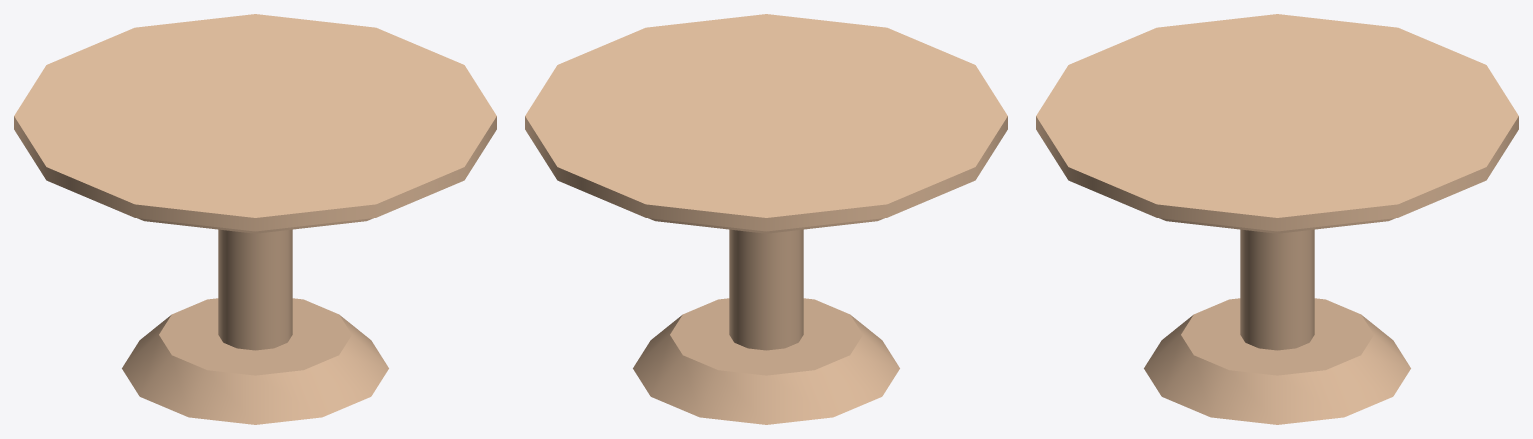
The model's file is diningRoundPedestal.glb.
The picture shows the model from 3 angles, left to right: view 1: azimuth 30°, elevation 25°; view 2: azimuth 150°, elevation 25°; view 3: azimuth 270°, elevation 25°; orthographic projection.
Visible parts, largest first — view 1: diningRoundPedestal; view 2: diningRoundPedestal; view 3: diningRoundPedestal.
Part boxes in pixels (<box>): diningRoundPedestal: <box>14,14,496,424</box>; diningRoundPedestal: <box>525,14,1007,424</box>; diningRoundPedestal: <box>1036,14,1518,424</box>.
Size of the model in its own units: 0.65 by 0.375 by 0.65.
